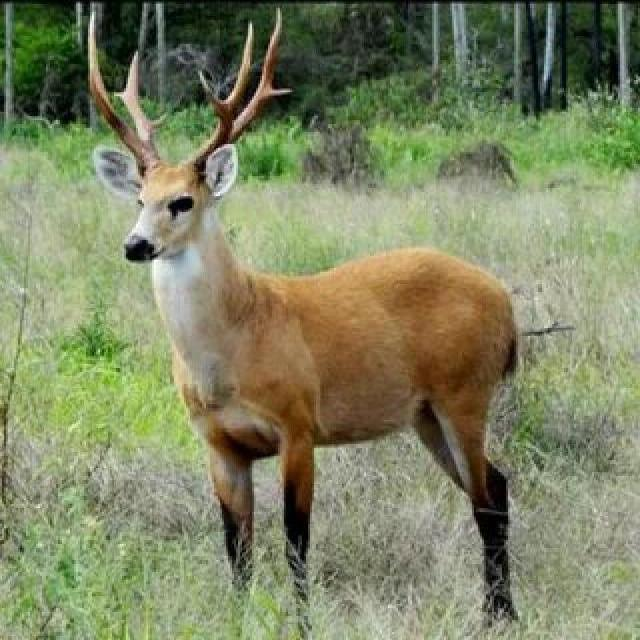deer: (77, 37, 588, 624)
